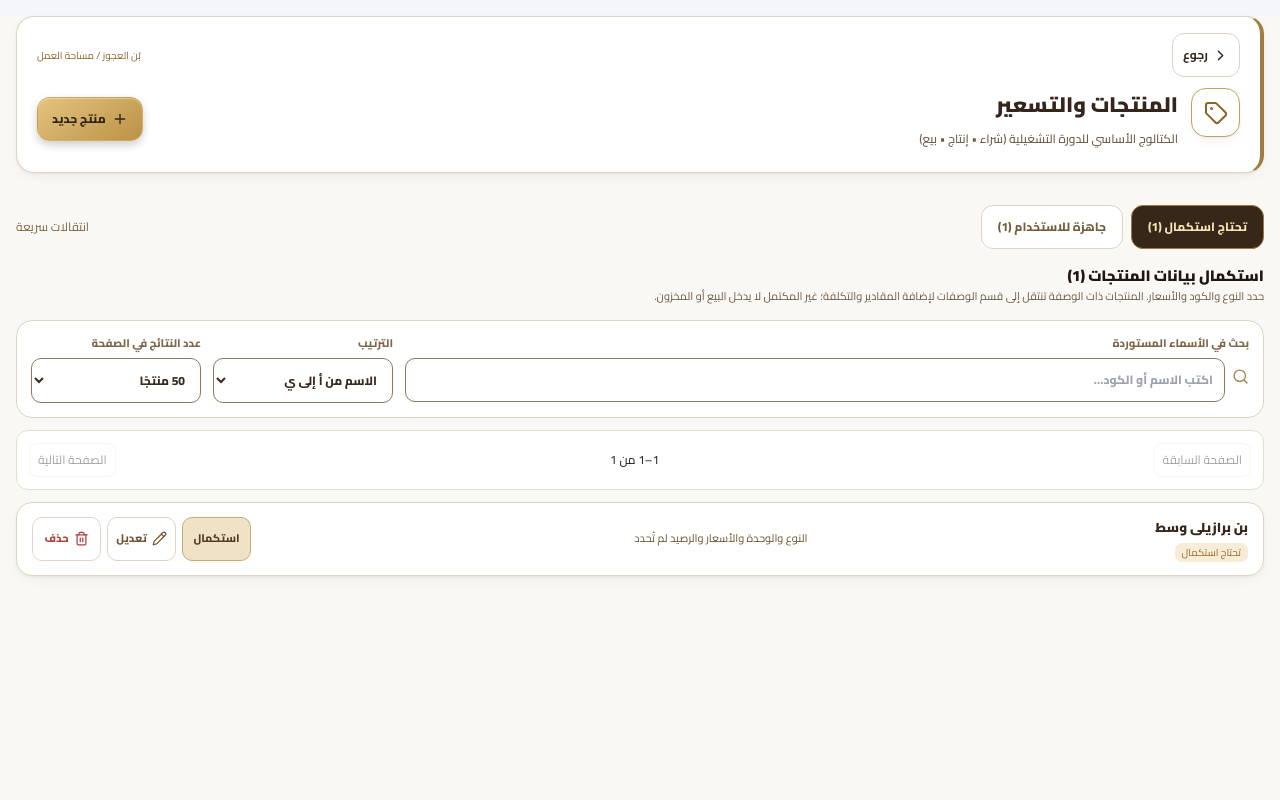
Scenario: separates pending names from ready products while preserving explicit management actions
This screenshot has width=1280, height=800.
Check: the heading "بن برازيلى وسط" is shown, box [1155, 514, 1248, 538]
Check: the heading "Ready product" is not shown
Click the button "جاهزة للاستخدام (1)". click: (1052, 227)
box: [981, 205, 1123, 249]
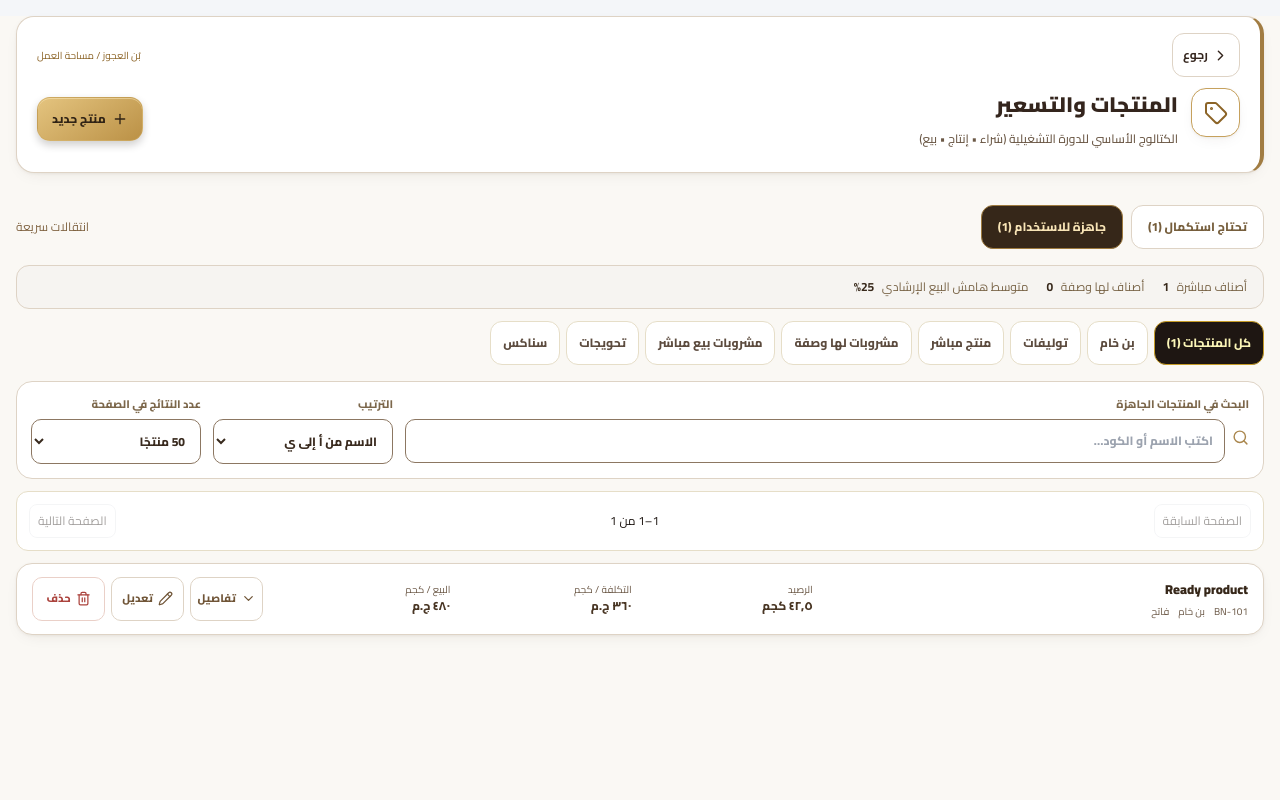
Check: the heading "Ready product" is shown, box [1165, 578, 1248, 602]
Check: the button with aria-label "تعديل المنتج Ready product" is shown, box [111, 576, 184, 620]
Check: the button with aria-label "حذف المنتج Ready product" is shown, box [32, 576, 105, 620]
Click the button "تفاصيل". click: (227, 598)
box: [190, 576, 263, 620]
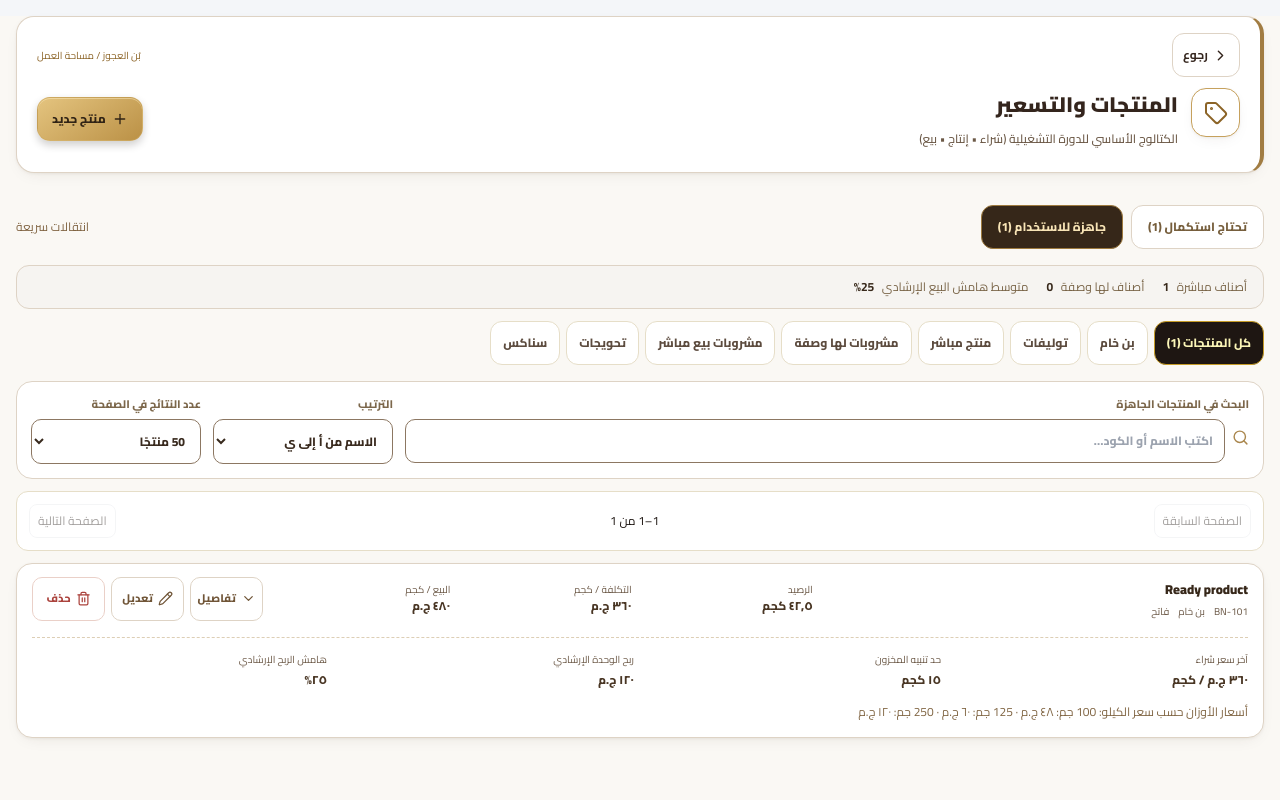
Check: the text "آخر سعر شراء" is shown, box [1196, 650, 1248, 668]
